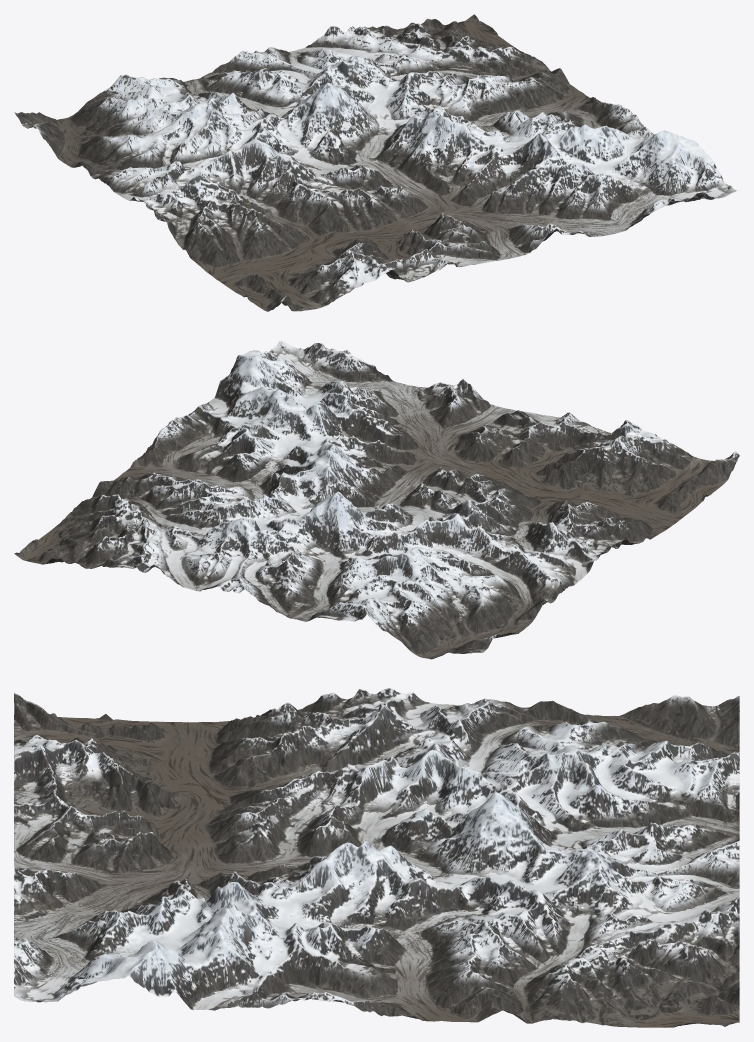
Rendered from k2_terrain_lo.glb.
The picture shows the model from 3 angles, top to bottom: view 1: azimuth 30°, elevation 25°; view 2: azimuth 150°, elevation 25°; view 3: azimuth 270°, elevation 25°; orthographic projection. The views are drawn at different scales.
Visible parts, largest first — view 1: Terrain_Lo; view 2: Terrain_Lo; view 3: Terrain_Lo.
Part boxes in pixels (left/top/right/bottom): Terrain_Lo: left=14, top=14, right=736, bottom=311; Terrain_Lo: left=14, top=340, right=739, bottom=659; Terrain_Lo: left=14, top=688, right=739, bottom=1027.
Bounding box in the file's own units: 36894 × 4525 × 36887.
1 material, 1 textured.
